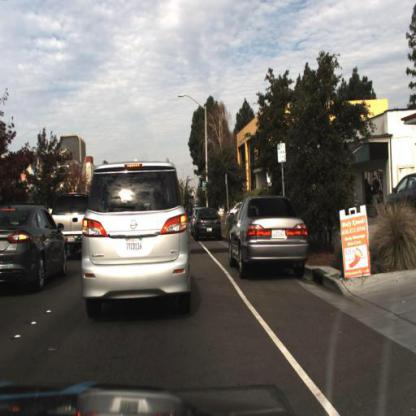car: (81, 162, 193, 314), (227, 196, 312, 281), (1, 204, 71, 294), (51, 192, 89, 249), (386, 171, 416, 216), (191, 206, 224, 245)
pedestrian: (368, 168, 382, 219), (348, 176, 358, 207)
